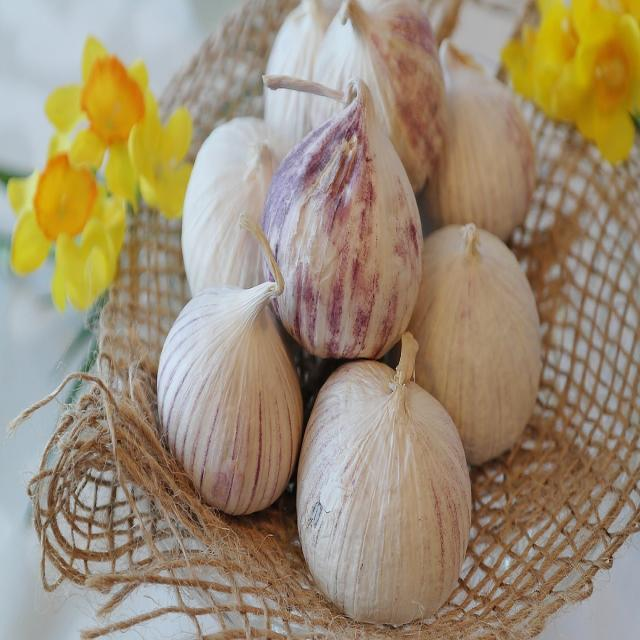garlic: (302, 330, 476, 630), (263, 89, 425, 369), (158, 263, 304, 523), (414, 229, 544, 477), (311, 1, 450, 203), (182, 117, 298, 297), (432, 46, 534, 240)
